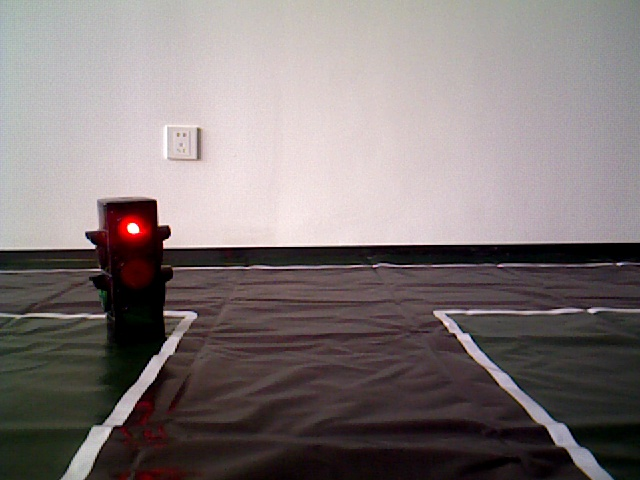red: (92, 205, 162, 336)
